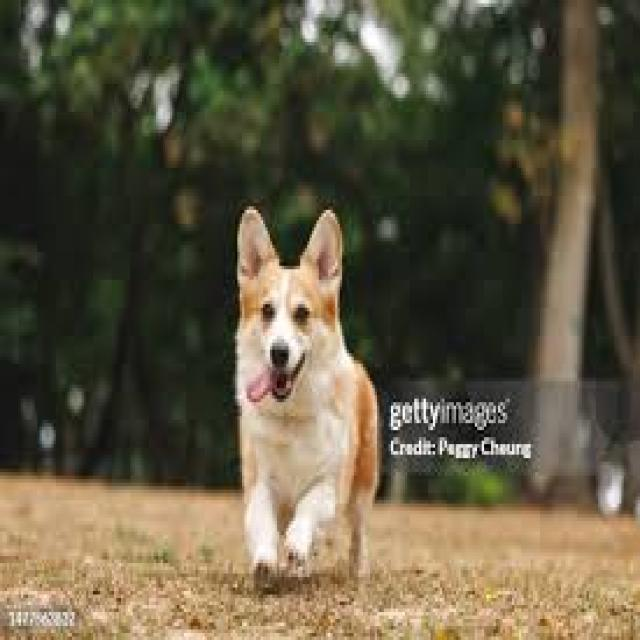CORGI: (224, 194, 388, 591)
